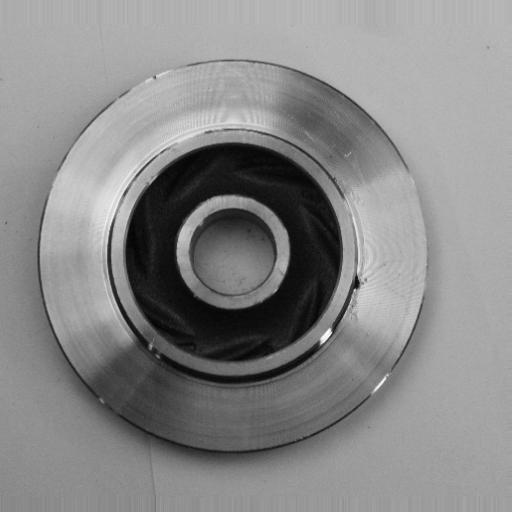crack: (342, 261, 373, 323)
scratch: (132, 314, 186, 372), (149, 124, 233, 159)
unpolished_casting: (38, 55, 431, 457)
